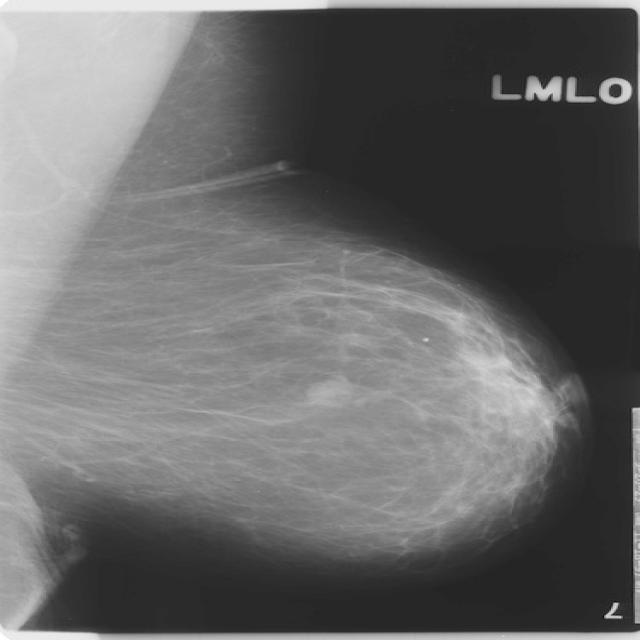tumour: (302, 375, 360, 407)
